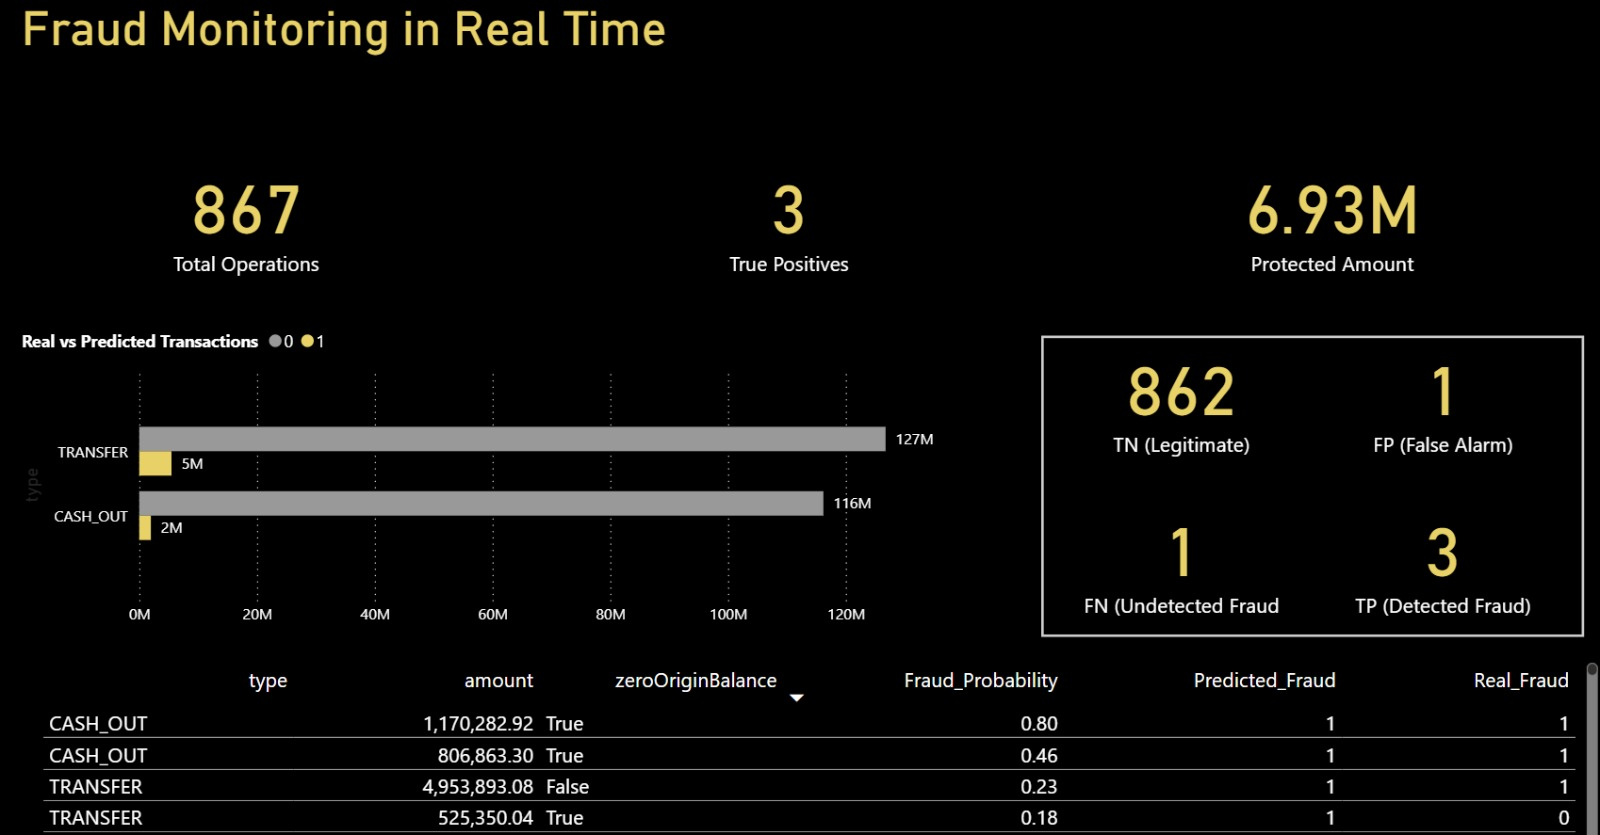

This screenshot's page, from the dashboard's own definition file:
{"tool":"powerbi","page":{"name":"Page 1","canvas":[1280,720],"ordinal":0},"visuals":[{"type":"textbox","box":[16,0,528,112],"z":0},{"type":"card","fields":{"Values":["CountNonNull(fraud_detection_results.amount)"]},"box":[16,96,368,160],"z":1},{"type":"card","fields":{"Values":["fraud_detection_results.True Positives"]},"box":[448,96,368,160],"z":2},{"type":"card","fields":{"Values":["fraud_detection_results.Protected Amount"]},"box":[880,96,368,160],"z":3},{"type":"clusteredBarChart","fields":{"Category":["fraud_detection_results.type"],"Y":["Sum(fraud_detection_results.amount)"],"Series":["fraud_detection_results.Predicted_Fraud"]},"box":[16,256,768,256],"z":4},{"type":"card","fields":{"Values":["CountNonNull(fraud_detection_results.amount)"]},"box":[848,256,192,128],"z":5},{"type":"card","fields":{"Values":["CountNonNull(fraud_detection_results.amount)"]},"box":[848,384,192,128],"z":6},{"type":"card","fields":{"Values":["CountNonNull(fraud_detection_results.amount)"]},"box":[1056,256,192,128],"z":7},{"type":"card","fields":{"Values":["CountNonNull(fraud_detection_results.amount)"]},"box":[1056,384,192,128],"z":8},{"type":"shape","box":[832,272,432,240],"z":9},{"type":"tableEx","fields":{"Values":["fraud_detection_results.type","fraud_detection_results.amount","fraud_detection_results.zeroOriginBalance","fraud_detection_results.Fraud_Probability","fraud_detection_results.Predicted_Fraud","fraud_detection_results.Real_Fraud"]},"box":[32,528,1248,192],"z":10}]}

Visuals, with their boxes on the page's 1280x720 design canvas (x1, y1, x2, y2). These are canvas units, not pixel positions in the 1600x835 screenshot, which may show the page scaled, cropped or inside an application window:
textbox: bbox=(16, 0, 544, 112)
card - CountNonNull(fraud_detection_results.amount): bbox=(16, 96, 384, 256)
card - fraud_detection_results.True Positives: bbox=(448, 96, 816, 256)
card - fraud_detection_results.Protected Amount: bbox=(880, 96, 1248, 256)
clusteredBarChart - fraud_detection_results.type x Sum(fraud_detection_results.amount): bbox=(16, 256, 784, 512)
card - CountNonNull(fraud_detection_results.amount): bbox=(848, 256, 1040, 384)
card - CountNonNull(fraud_detection_results.amount): bbox=(848, 384, 1040, 512)
card - CountNonNull(fraud_detection_results.amount): bbox=(1056, 256, 1248, 384)
card - CountNonNull(fraud_detection_results.amount): bbox=(1056, 384, 1248, 512)
shape: bbox=(832, 272, 1264, 512)
tableEx - fraud_detection_results.type x fraud_detection_results.amount: bbox=(32, 528, 1280, 720)
